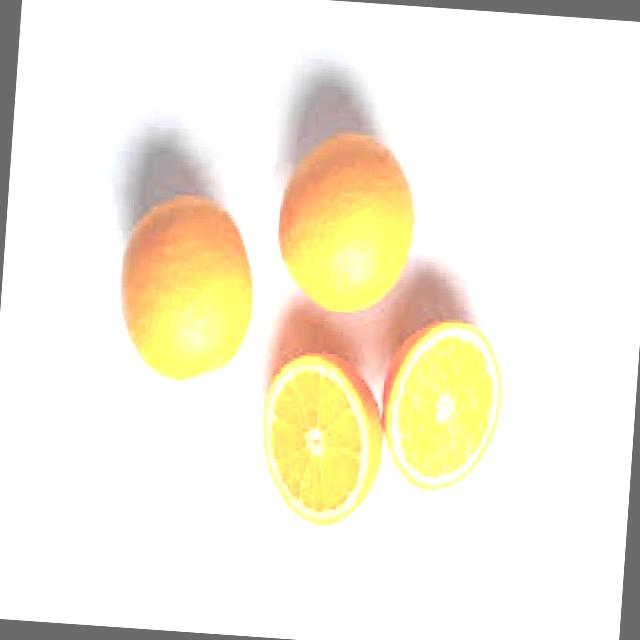Orange: (112, 190, 263, 388), (273, 128, 423, 320), (255, 350, 390, 532), (376, 318, 509, 498)
